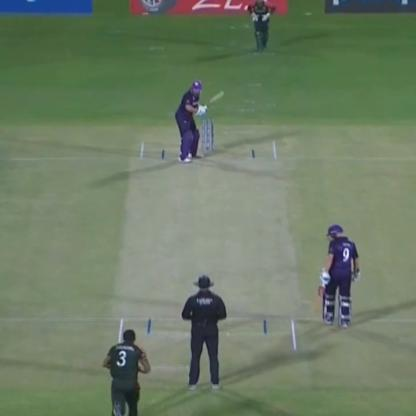bat: (198, 86, 234, 110), (309, 278, 324, 326)
pitch: (106, 129, 308, 372)
